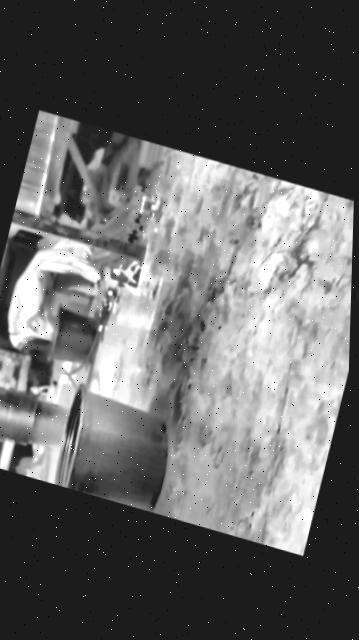pot: (48, 382, 177, 515), (45, 307, 96, 363)
